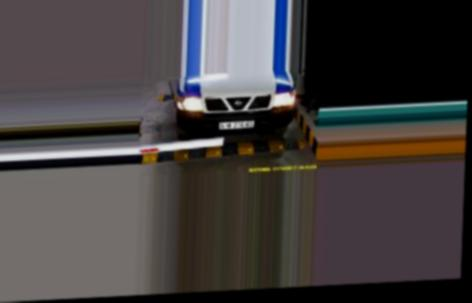License_Plate: (216, 116, 260, 132)
